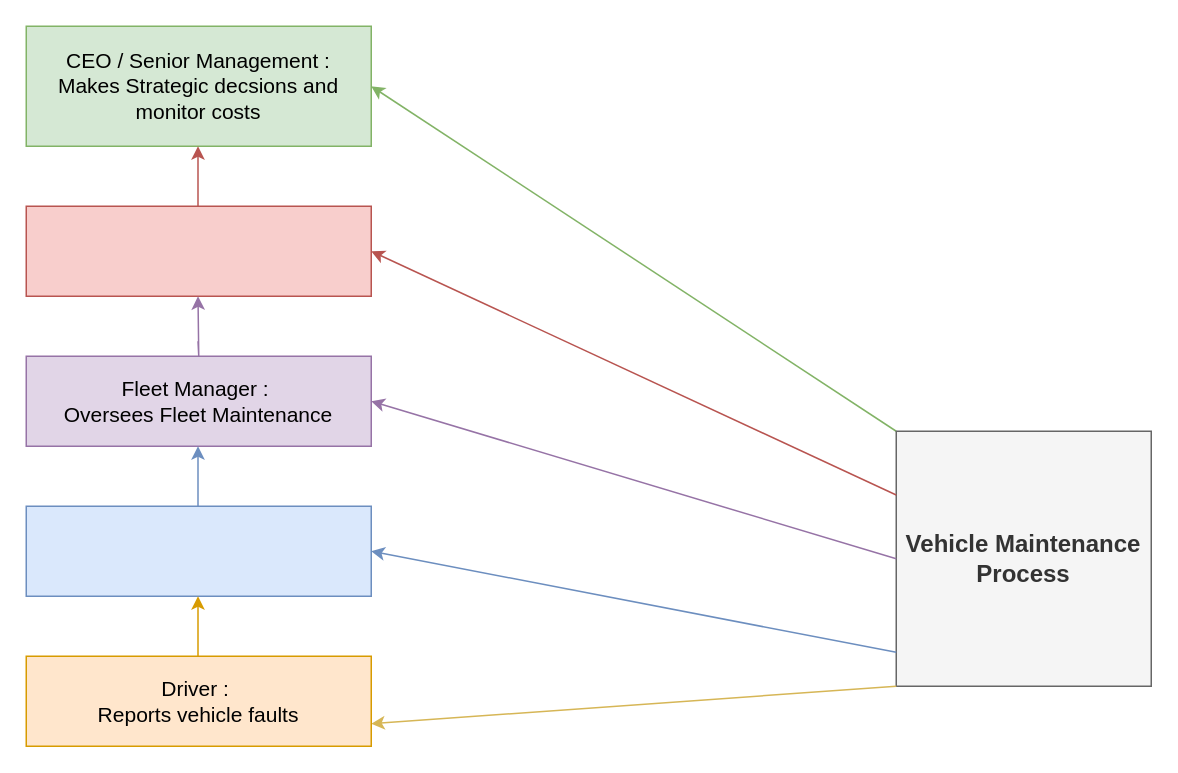
The diagram is 1178 pixels wide and 773 high, and some of its shapes have lost their labels. The shapes that lost their labels are listed below. From the top down, each one's centre as x and y in pixels, then its label:
At pixel 198 250: "Mechanic / Maintenance Team : Repairs and maintains vehicles".
At pixel 198 550: "Fleet Administrator : Records and manages maintenance information".
